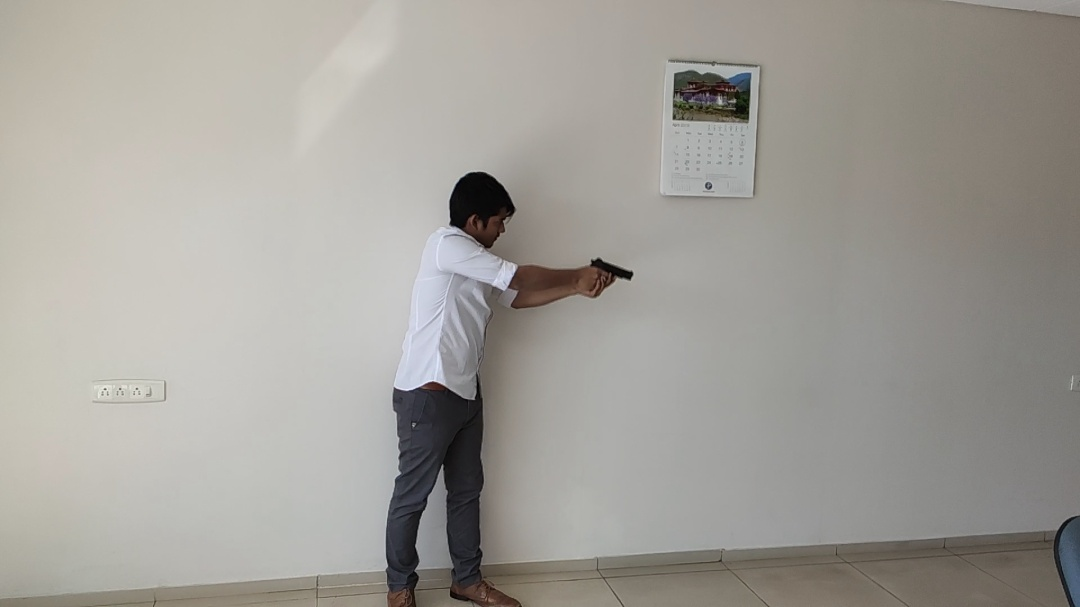gun: (590, 257, 634, 282)
